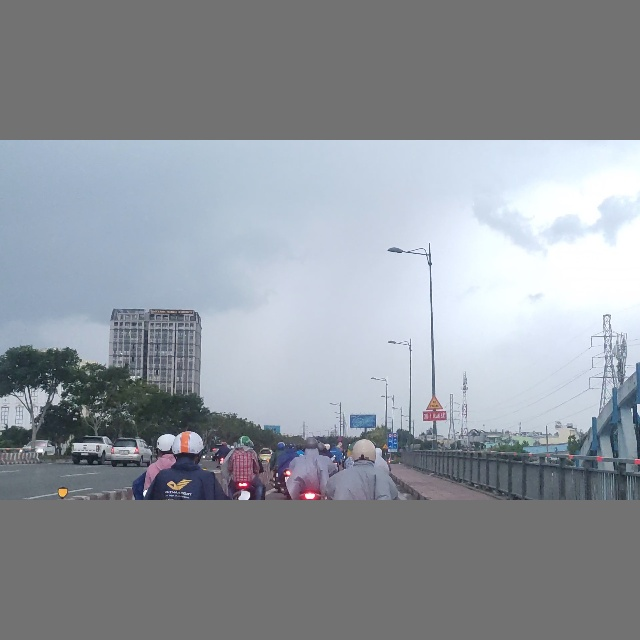W.201a: (382, 443, 389, 449)
W.245a: (425, 394, 444, 410)
